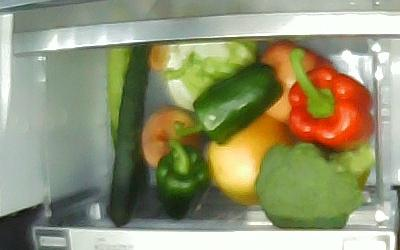apple: (254, 38, 332, 126)
broccoli: (255, 141, 375, 229)
cucumber: (107, 48, 150, 228), (106, 48, 149, 217)
grapefruit: (204, 112, 290, 206)
lettuce: (148, 38, 257, 115)
paprika: (174, 62, 284, 148), (283, 51, 375, 151), (155, 138, 210, 221)
peach: (140, 107, 203, 169)
